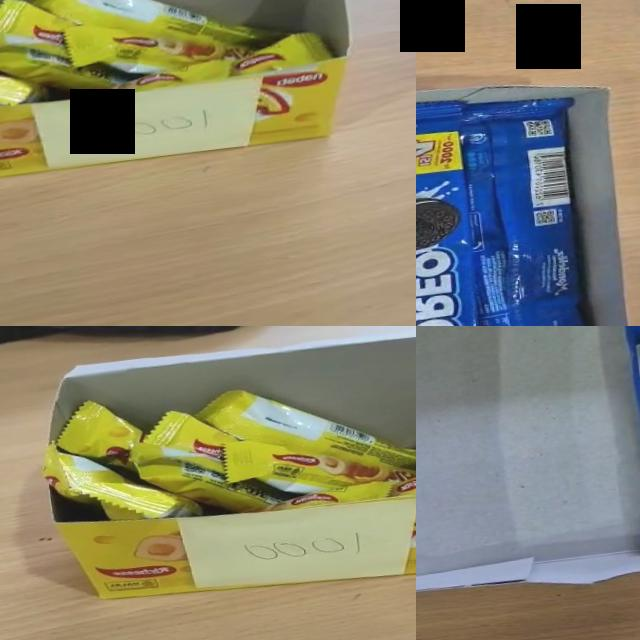Ahh: (191, 362, 416, 500), (38, 422, 206, 534), (29, 0, 276, 75), (126, 422, 296, 526), (220, 416, 416, 506), (58, 1, 256, 85), (0, 0, 140, 109), (48, 392, 150, 483), (137, 402, 247, 474), (224, 27, 334, 76), (256, 478, 398, 514), (105, 56, 238, 94), (0, 21, 48, 119), (383, 450, 416, 497)
Oreo: (463, 99, 587, 326), (416, 101, 475, 326)
